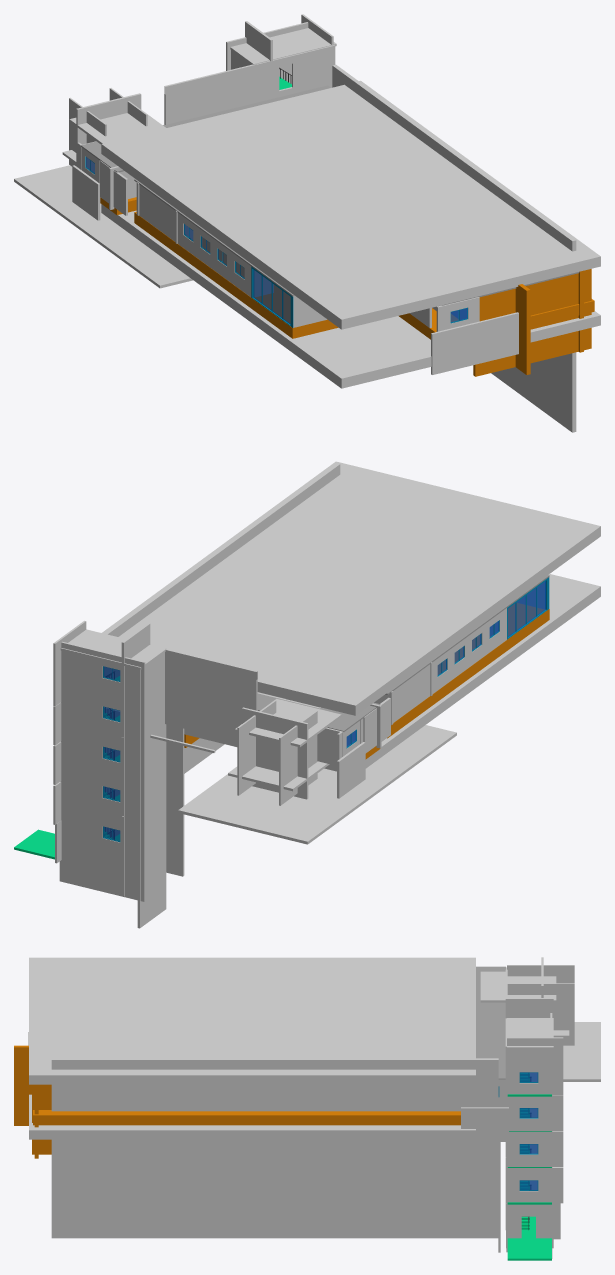
File: Map4.fbx
3 views of the same model, one above another, from view 1: azimuth 30°, elevation 25°; view 2: azimuth 150°, elevation 25°; view 3: azimuth 270°, elevation 25° (orthographic). The views are drawn at different scales.
Parts seen in each view (by area): view 1: ground9, ground10, ground12, Wall24, pCube104, ground8, pCube100, Wall9, FireExitCeiling, ground3, ground2, pCube99 (+12 smaller); view 2: ground9, group13_Wall31, pCube104, pCube90, ground10, ground12, Wall24, Wall9, Wall29, pCube91, pCube93, pCube96 (+13 smaller); view 3: ground12, ground9, ground10, ground4, Wall25, ground, pCube104, Wall27, Wall28, Wall26, pCube97, Wall30 (+8 smaller).
Part boxes in pixels (bbox=[...]): ground9: bbox=[101, 80, 600, 329]; ground10: bbox=[101, 204, 600, 388]; ground12: bbox=[332, 64, 576, 432]; Wall24: bbox=[164, 45, 335, 124]; pCube104: bbox=[14, 165, 192, 288]; ground8: bbox=[473, 269, 591, 376]; pCube100: bbox=[431, 312, 518, 374]; Wall9: bbox=[139, 184, 251, 297]; FireExitCeiling: bbox=[230, 28, 336, 64]; ground3: bbox=[134, 211, 281, 308]; ground2: bbox=[251, 291, 338, 338]; pCube99: bbox=[69, 112, 165, 144]; ground9: bbox=[102, 461, 600, 715]; group13_Wall31: bbox=[59, 641, 145, 901]; pCube104: bbox=[178, 725, 456, 844]; pCube90: bbox=[137, 648, 166, 928]; ground10: bbox=[184, 574, 600, 771]; ground12: bbox=[104, 463, 340, 773]; Wall24: bbox=[86, 629, 257, 710]; Wall9: bbox=[393, 608, 506, 722]; Wall29: bbox=[104, 675, 343, 763]; pCube91: bbox=[166, 724, 184, 876]; pCube93: bbox=[242, 707, 308, 799]; pCube96: bbox=[279, 710, 317, 805]; ground12: bbox=[51, 1058, 498, 1238]; ground9: bbox=[29, 957, 475, 1084]; ground10: bbox=[29, 1094, 475, 1139]; ground4: bbox=[33, 1110, 460, 1125]; Wall25: bbox=[507, 1037, 563, 1095]; ground: bbox=[476, 966, 505, 1079]; pCube104: bbox=[563, 1022, 600, 1081]; Wall27: bbox=[507, 1131, 563, 1166]; Wall28: bbox=[507, 1167, 563, 1203]; Wall26: bbox=[507, 1095, 563, 1130]; pCube97: bbox=[507, 983, 574, 1045]; Wall30: bbox=[506, 1203, 560, 1239].
Size of the model in its own units: 30.54 by 25.63 by 53.16.
